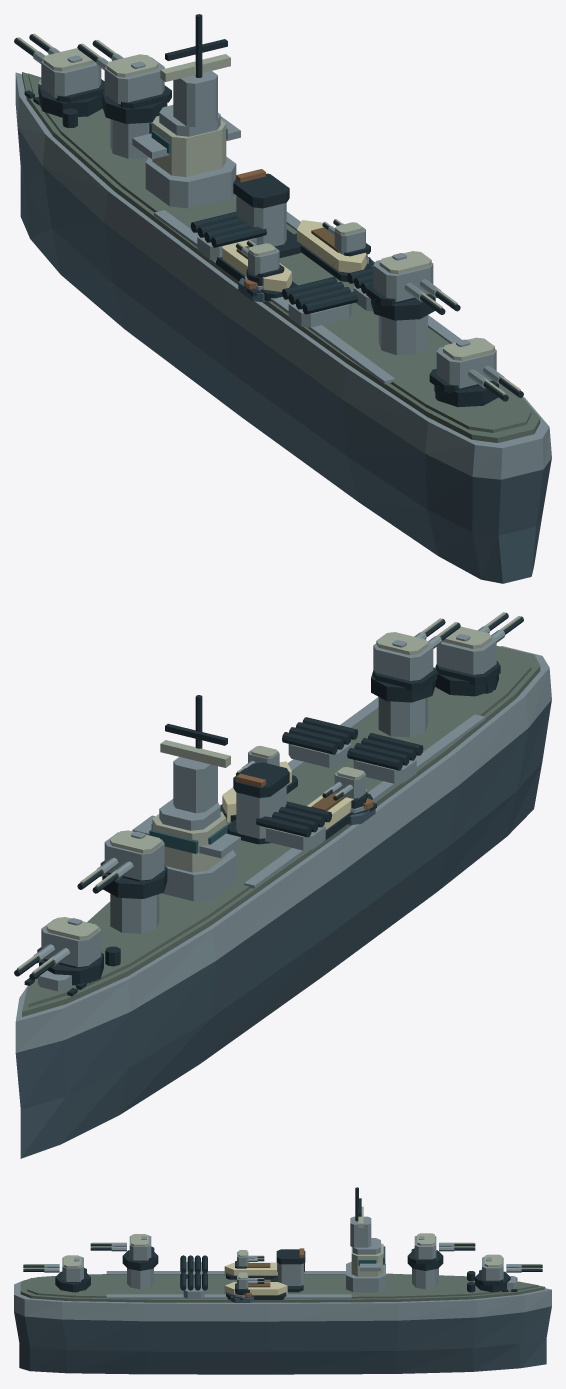
The model's file is historic-somers.glb.
3 views of the same model, one above another, from view 1: azimuth 30°, elevation 25°; view 2: azimuth 150°, elevation 25°; view 3: azimuth 270°, elevation 25° (orthographic). The views are drawn at different scales.
Visible parts, largest first — view 1: historic-somers-historic-somers-geometry, historic-somers-part_bridge.127-geometry, historic-somers-turret_main_1.089-geometry, historic-somers-turret_main_2.075-geometry, historic-somers-turret_main_3.050-geometry, historic-somers-turret_main_0.096-geometry, historic-somers-historic_funnel_0.120-geometry, historic-somers-torpedo_bank_0.036-geometry, historic-somers-torpedo_bank_2.012-geometry, historic-somers-turret_aa_aa-port.129-geometry, historic-somers-turret_aa_aa-starboard.125-geometry, historic-somers-torpedo_bank_1.033-geometry; view 2: historic-somers-historic-somers-geometry, historic-somers-part_bridge.127-geometry, historic-somers-turret_main_2.075-geometry, historic-somers-turret_main_3.050-geometry, historic-somers-turret_main_1.089-geometry, historic-somers-turret_main_0.096-geometry, historic-somers-historic_funnel_0.120-geometry, historic-somers-torpedo_bank_1.033-geometry, historic-somers-torpedo_bank_0.036-geometry, historic-somers-torpedo_bank_2.012-geometry, historic-somers-turret_aa_aa-port.129-geometry; view 3: historic-somers-historic-somers-geometry, historic-somers-part_bridge.127-geometry, historic-somers-turret_main_1.089-geometry, historic-somers-turret_main_2.075-geometry, historic-somers-turret_main_0.096-geometry, historic-somers-turret_main_3.050-geometry, historic-somers-historic_funnel_0.120-geometry, historic-somers-torpedo_bank_1.033-geometry, historic-somers-torpedo_bank_0.036-geometry, historic-somers-turret_aa_aa-starboard.125-geometry, historic-somers-turret_aa_aa-port.129-geometry.
Boxes of the visible parts, x1,y1,x2,y2 form: historic-somers-historic-somers-geometry: (15,72,551,583); historic-somers-part_bridge.127-geometry: (132,14,240,208); historic-somers-turret_main_1.089-geometry: (77,40,171,123); historic-somers-turret_main_2.075-geometry: (366,251,460,320); historic-somers-turret_main_3.050-geometry: (429,337,523,407); historic-somers-turret_main_0.096-geometry: (14,33,104,117); historic-somers-historic_funnel_0.120-geometry: (233,169,301,257); historic-somers-torpedo_bank_0.036-geometry: (282,277,357,327); historic-somers-torpedo_bank_2.012-geometry: (190,212,266,260); historic-somers-turret_aa_aa-port.129-geometry: (236,240,284,285); historic-somers-turret_aa_aa-starboard.125-geometry: (322,219,370,259); historic-somers-torpedo_bank_1.033-geometry: (347,267,373,311); historic-somers-historic-somers-geometry: (15,646,551,1158); historic-somers-part_bridge.127-geometry: (132,695,240,901); historic-somers-turret_main_2.075-geometry: (371,618,460,702); historic-somers-turret_main_3.050-geometry: (435,612,523,696); historic-somers-turret_main_1.089-geometry: (77,830,167,898); historic-somers-turret_main_0.096-geometry: (14,917,103,985); historic-somers-historic_funnel_0.120-geometry: (227,762,289,844); historic-somers-torpedo_bank_1.033-geometry: (282,717,358,767); historic-somers-torpedo_bank_0.036-geometry: (347,733,423,783); historic-somers-torpedo_bank_2.012-geometry: (256,801,332,850); historic-somers-turret_aa_aa-port.129-geometry: (322,767,367,808); historic-somers-historic-somers-geometry: (14,1262,551,1374); historic-somers-part_bridge.127-geometry: (346,1187,385,1292); historic-somers-turret_main_1.089-geometry: (407,1233,475,1270); historic-somers-turret_main_2.075-geometry: (90,1234,158,1270); historic-somers-turret_main_0.096-geometry: (475,1254,542,1292); historic-somers-turret_main_3.050-geometry: (23,1255,90,1292); historic-somers-historic_funnel_0.120-geometry: (270,1248,305,1292); historic-somers-torpedo_bank_1.033-geometry: (180,1272,207,1298); historic-somers-torpedo_bank_0.036-geometry: (180,1255,207,1278); historic-somers-turret_aa_aa-starboard.125-geometry: (235,1272,264,1295); historic-somers-turret_aa_aa-port.129-geometry: (235,1250,264,1268).
Size of the model in its own units: 0.5867 by 1.49 by 4.11.
